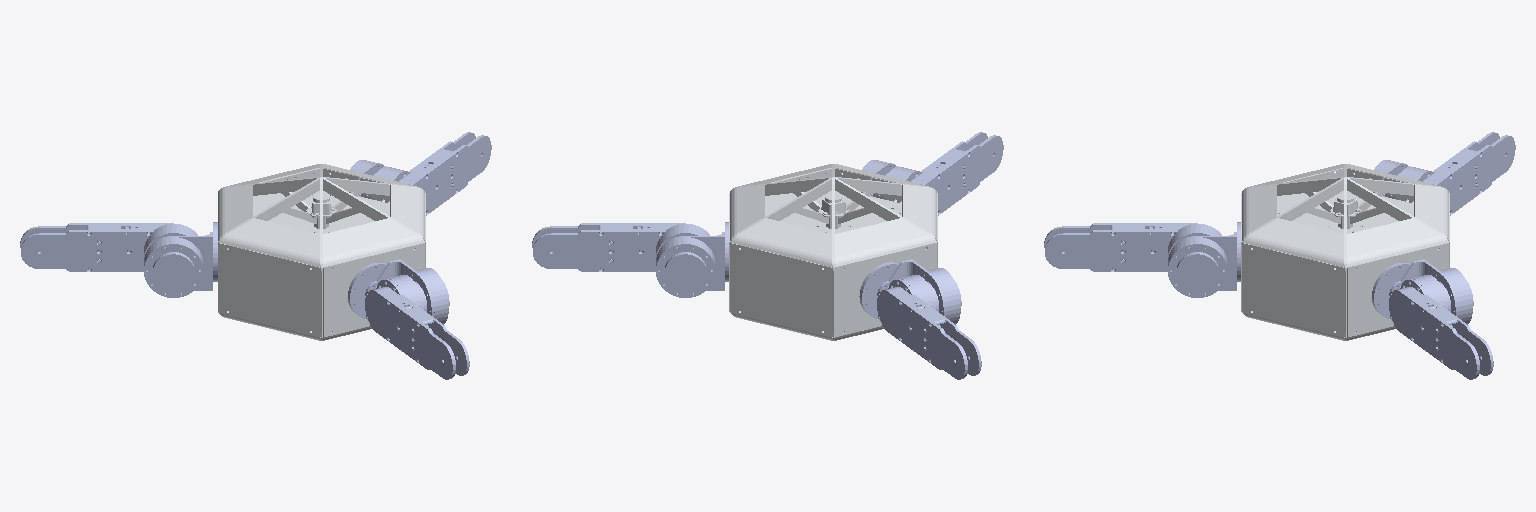
The robot description file, URDF, robot "tripod9":
<?xml version="1.0" encoding="utf-8"?>
<!-- This URDF was automatically created by SolidWorks to URDF Exporter! Originally created by [author] ([email redacted]) 
     Commit Version: 1.6.0-4-g7f85cfe  Build Version: 1.6.7995.38578
     For more information, please see http://wiki.ros.org/sw_urdf_exporter -->
<robot
  name="tripod9">
  <link
    name="base_link">
    <inertial>
      <origin
        xyz="-0.00312905634710786 0.0203968059548864 0.0257846213394461"
        rpy="0 0 0" />
      <mass
        value="11.3724307419957" />
      <inertia
        ixx="0.0406073269056664"
        ixy="0.010264439474814"
        ixz="-4.0857509947383E-07"
        iyy="0.0528919898826588"
        iyz="-5.215426614709E-08"
        izz="0.0710445423135388" />
    </inertial>
    <visual>
      <origin
        xyz="0 0 0"
        rpy="0 0 0" />
      <geometry>
        <mesh
          filename="package://tripod9/meshes/base_link.STL" />
      </geometry>
      <material
        name="">
        <color
          rgba="0.898039215686275 0.917647058823529 0.929411764705882 1" />
      </material>
    </visual>
    <collision>
      <origin
        xyz="0 0 0"
        rpy="0 0 0" />
      <geometry>
        <mesh
          filename="package://tripod9/meshes/base_link.STL" />
      </geometry>
    </collision>
  </link>
  <link
    name="sec01">
    <inertial>
      <origin
        xyz="0.00048653 0.015913 -3.1489E-05"
        rpy="0 0 0" />
      <mass
        value="0.69712" />
      <inertia
        ixx="0.0011428"
        ixy="-9.0045E-05"
        ixz="-4.1383E-07"
        iyy="0.0011939"
        iyz="-4.9367E-19"
        izz="0.00095487" />
    </inertial>
    <visual>
      <origin
        xyz="0 0 0"
        rpy="0 0 0" />
      <geometry>
        <mesh
          filename="package://tripod9/meshes/sec01.STL" />
      </geometry>
      <material
        name="">
        <color
          rgba="0.79216 0.81961 0.93333 1" />
      </material>
    </visual>
    <collision>
      <origin
        xyz="0 0 0"
        rpy="0 0 0" />
      <geometry>
        <mesh
          filename="package://tripod9/meshes/sec01.STL" />
      </geometry>
    </collision>
  </link>
  <joint
    name="leg01"
    type="revolute">
    <origin
      xyz="-0.00270211669405697 -0.198920451815278 0.0296429977991011"
      rpy="0 0 -1.5707963267949" />
    <parent
      link="base_link" />
    <child
      link="sec01" />
    <axis
      xyz="1 0 0" />
    <limit
      lower="-1.571"
      upper="1.571"
      effort="10000"
      velocity="10000" />
  </joint>
  <link
    name="hsec01">
    <inertial>
      <origin
        xyz="-0.085802207284442 -0.0586652892981549 -0.00128195126910836"
        rpy="0 0 0" />
      <mass
        value="2.59385289729097" />
      <inertia
        ixx="0.0132813286063691"
        ixy="2.30713341803904E-07"
        ixz="7.37838868928084E-06"
        iyy="0.00186263080107763"
        iyz="1.88984474958543E-06"
        izz="0.0117381218254458" />
    </inertial>
    <visual>
      <origin
        xyz="0 0 0"
        rpy="0 0 0" />
      <geometry>
        <mesh
          filename="package://tripod9/meshes/hsec01.STL" />
      </geometry>
      <material
        name="">
        <color
          rgba="0.792156862745098 0.819607843137255 0.933333333333333 1" />
      </material>
    </visual>
    <collision>
      <origin
        xyz="0 0 0"
        rpy="0 0 0" />
      <geometry>
        <mesh
          filename="package://tripod9/meshes/hsec01.STL" />
      </geometry>
    </collision>
  </link>
  <joint
    name="high01"
    type="revolute">
    <origin
      xyz="0.0788064380992387 0.0895000000000011 0"
      rpy="0 0 1.5707963267949" />
    <parent
      link="sec01" />
    <child
      link="hsec01" />
    <axis
      xyz="-1 0 0" />
    <limit
      lower="-1.571"
      upper="1.571"
      effort="10000"
      velocity="10000" />
  </joint>
  <link
    name="lsec01">
    <inertial>
      <origin
        xyz="-0.00741155948002789 -0.0534070820824174 -2.19114356162647E-07"
        rpy="0 0 0" />
      <mass
        value="0.292019066527945" />
      <inertia
        ixx="0.000681104991544854"
        ixy="3.03504858996814E-10"
        ixz="-6.21574686540396E-10"
        iyy="8.62621908768414E-05"
        iyz="-1.16761217815233E-09"
        izz="0.0006157104656343" />
    </inertial>
    <visual>
      <origin
        xyz="0 0 0"
        rpy="0 0 0" />
      <geometry>
        <mesh
          filename="package://tripod9/meshes/lsec01.STL" />
      </geometry>
      <material
        name="">
        <color
          rgba="0.792156862745098 0.819607843137255 0.933333333333333 1" />
      </material>
    </visual>
    <collision>
      <origin
        xyz="0 0 0"
        rpy="0 0 0" />
      <geometry>
        <mesh
          filename="package://tripod9/meshes/lsec01.STL" />
      </geometry>
    </collision>
  </link>
  <joint
    name="low01"
    type="revolute">
    <origin
      xyz="-0.10655 -0.269643561900764 -0.0021000000000095"
      rpy="0 0 0" />
    <parent
      link="hsec01" />
    <child
      link="lsec01" />
    <axis
      xyz="-1 0 0" />
    <limit
      lower="-1.571"
      upper="1.571"
      effort="10000"
      velocity="10000" />
  </joint>
  <link
    name="sec02">
    <inertial>
      <origin
        xyz="0.00048653 0.015913 -3.1489E-05"
        rpy="0 0 0" />
      <mass
        value="0.69712" />
      <inertia
        ixx="0.0011428"
        ixy="-9.0045E-05"
        ixz="-4.1383E-07"
        iyy="0.0011939"
        iyz="-6.2858E-19"
        izz="0.00095487" />
    </inertial>
    <visual>
      <origin
        xyz="0 0 0"
        rpy="0 0 0" />
      <geometry>
        <mesh
          filename="package://tripod9/meshes/sec02.STL" />
      </geometry>
      <material
        name="">
        <color
          rgba="0.79216 0.81961 0.93333 1" />
      </material>
    </visual>
    <collision>
      <origin
        xyz="0 0 0"
        rpy="0 0 0" />
      <geometry>
        <mesh
          filename="package://tripod9/meshes/sec02.STL" />
      </geometry>
    </collision>
  </link>
  <joint
    name="leg02"
    type="revolute">
    <origin
      xyz="0.185774106959521 0.127529943539013 0.0296429977991011"
      rpy="0 0 0.523598775598251" />
    <parent
      link="base_link" />
    <child
      link="sec02" />
    <axis
      xyz="1 0 0" />
    <limit
      lower="-1.571"
      upper="1.571"
      effort="10000"
      velocity="10000" />
  </joint>
  <link
    name="hsec02">
    <inertial>
      <origin
        xyz="-0.0936880803892596 0.0449324326469038 -0.00132320363478538"
        rpy="0 0 0" />
      <mass
        value="2.58967801426391" />
      <inertia
        ixx="0.00471738722941004"
        ixy="-0.00494456996283436"
        ixz="5.32584938980878E-06"
        iyy="0.0104263520174632"
        iyz="-5.44494872557977E-06"
        izz="0.0117379962530972" />
    </inertial>
    <visual>
      <origin
        xyz="0 0 0"
        rpy="0 0 0" />
      <geometry>
        <mesh
          filename="package://tripod9/meshes/hsec02.STL" />
      </geometry>
      <material
        name="">
        <color
          rgba="0.792156862745098 0.819607843137255 0.933333333333333 1" />
      </material>
    </visual>
    <collision>
      <origin
        xyz="0 0 0"
        rpy="0 0 0" />
      <geometry>
        <mesh
          filename="package://tripod9/meshes/hsec02.STL" />
      </geometry>
    </collision>
  </link>
  <joint
    name="high02"
    type="revolute">
    <origin
      xyz="0.0788064380992388 0.0895000000000011 0"
      rpy="0 0 2.61799387799154" />
    <parent
      link="sec02" />
    <child
      link="hsec02" />
    <axis
      xyz="-0.499999999999959 0.866025403784462 0" />
    <limit
      lower="-1.571"
      upper="1.571"
      effort="10000"
      velocity="10000" />
  </joint>
  <link
    name="lsec02">
    <inertial>
      <origin
        xyz="-0.049957669765295 -0.0202849427339908 -2.19055842902438E-07"
        rpy="0 0 0" />
      <mass
        value="0.292019079957839" />
      <inertia
        ixx="0.00023497254123623"
        ixy="-0.000257573690181134"
        ixz="-1.32698808700612E-09"
        iyy="0.000532392318918855"
        iyz="-3.69713850193408E-11"
        izz="0.000615708168370942" />
    </inertial>
    <visual>
      <origin
        xyz="0 0 0"
        rpy="0 0 0" />
      <geometry>
        <mesh
          filename="package://tripod9/meshes/lsec02.STL" />
      </geometry>
      <material
        name="">
        <color
          rgba="0.792156862745098 0.819607843137255 0.933333333333333 1" />
      </material>
    </visual>
    <collision>
      <origin
        xyz="0 0 0"
        rpy="0 0 0" />
      <geometry>
        <mesh
          filename="package://tripod9/meshes/lsec02.STL" />
      </geometry>
    </collision>
  </link>
  <joint
    name="low02"
    type="revolute">
    <origin
      xyz="-0.286793174572986 -0.0425467741771368 -0.00210000000000763"
      rpy="0 0 0" />
    <parent
      link="hsec02" />
    <child
      link="lsec02" />
    <axis
      xyz="-0.49999999999996 0.866025403784462 0" />
    <limit
      lower="-1.571"
      upper="1.571"
      effort="10000"
      velocity="10000" />
  </joint>
  <link
    name="sec03">
    <inertial>
      <origin
        xyz="0.00048653 0.015913 -3.1489E-05"
        rpy="0 0 0" />
      <mass
        value="0.69712" />
      <inertia
        ixx="0.0011428"
        ixy="-9.0045E-05"
        ixz="-4.1383E-07"
        iyy="0.0011939"
        iyz="-1.7005E-17"
        izz="0.00095487" />
    </inertial>
    <visual>
      <origin
        xyz="0 0 0"
        rpy="0 0 0" />
      <geometry>
        <mesh
          filename="package://tripod9/meshes/sec03.STL" />
      </geometry>
      <material
        name="">
        <color
          rgba="0.79216 0.81961 0.93333 1" />
      </material>
    </visual>
    <collision>
      <origin
        xyz="0 0 0"
        rpy="0 0 0" />
      <geometry>
        <mesh
          filename="package://tripod9/meshes/sec03.STL" />
      </geometry>
    </collision>
  </link>
  <joint
    name="leg03"
    type="revolute">
    <origin
      xyz="-0.19118 0.12753 0.029643"
      rpy="0 0 2.618" />
    <parent
      link="base_link" />
    <child
      link="sec03" />
    <axis
      xyz="1 0 0" />
    <limit
      lower="-1.571"
      upper="1.571"
      effort="10000"
      velocity="10000" />
  </joint>
  <link
    name="hsec03">
    <inertial>
      <origin
        xyz="-0.0079045 0.10364 -0.001282"
        rpy="0 0 0" />
      <mass
        value="2.5939" />
      <inertia
        ixx="0.0047171"
        ixy="0.0049443"
        ixz="-2.0525E-06"
        iyy="0.010427"
        iyz="-7.3348E-06"
        izz="0.011738" />
    </inertial>
    <visual>
      <origin
        xyz="0 0 0"
        rpy="0 0 0" />
      <geometry>
        <mesh
          filename="package://tripod9/meshes/hsec03.STL" />
      </geometry>
      <material
        name="">
        <color
          rgba="0.79216 0.81961 0.93333 1" />
      </material>
    </visual>
    <collision>
      <origin
        xyz="0 0 0"
        rpy="0 0 0" />
      <geometry>
        <mesh
          filename="package://tripod9/meshes/hsec03.STL" />
      </geometry>
    </collision>
  </link>
  <joint
    name="high03"
    type="revolute">
    <origin
      xyz="0.078806 0.0895 0"
      rpy="0 0 -2.618" />
    <parent
      link="sec03" />
    <child
      link="hsec03" />
    <axis
      xyz="0.5 0.86603 0" />
    <limit
      lower="-1.571"
      upper="1.571"
      effort="10000"
      velocity="10000" />
  </joint>
  <link
    name="lsec03">
    <inertial>
      <origin
        xyz="-0.042546 0.033122 -2.1905E-07"
        rpy="0 0 0" />
      <mass
        value="0.29202" />
      <inertia
        ixx="0.00023497"
        ixy="0.00025757"
        ixz="-6.9589E-10"
        iyy="0.00053239"
        iyz="1.1309E-09"
        izz="0.00061571" />
    </inertial>
    <visual>
      <origin
        xyz="0 0 0"
        rpy="0 0 0" />
      <geometry>
        <mesh
          filename="package://tripod9/meshes/lsec03.STL" />
      </geometry>
      <material
        name="">
        <color
          rgba="0.89804 0.91765 0.92941 1" />
      </material>
    </visual>
    <collision>
      <origin
        xyz="0 0 0"
        rpy="0 0 0" />
      <geometry>
        <mesh
          filename="package://tripod9/meshes/lsec03.STL" />
      </geometry>
    </collision>
  </link>
  <joint
    name="low03"
    type="revolute">
    <origin
      xyz="-0.18024 0.2271 -0.0021"
      rpy="0 0 0" />
    <parent
      link="hsec03" />
    <child
      link="lsec03" />
    <axis
      xyz="0.5 0.86603 0" />
    <limit
      lower="-1.571"
      upper="1.571"
      effort="10000"
      velocity="10000" />
  </joint>

<!--transmission definition -->
<transmission name="tran01">
    <type>transmission_interface/SimpleTransmission</type>
    <joint name="leg01">
      <hardwareInterface>hardware_interface/EffortJointInterface</hardwareInterface>
    </joint>
    <actuator name="motor01">
      <hardwareInterface>hardware_interface/EffortJointInterface</hardwareInterface>
      <mechanicalReduction>1</mechanicalReduction>
    </actuator>
  </transmission>
  
  <transmission name="tran02">
    <type>transmission_interface/SimpleTransmission</type>
    <joint name="high01">
      <hardwareInterface>hardware_interface/EffortJointInterface</hardwareInterface>
    </joint>
    <actuator name="motor02">
      <hardwareInterface>hardware_interface/EffortJointInterface</hardwareInterface>
      <mechanicalReduction>1</mechanicalReduction>
    </actuator>
  </transmission>
  
  <transmission name="tran03">
    <type>transmission_interface/SimpleTransmission</type>
    <joint name="low01">
      <hardwareInterface>hardware_interface/EffortJointInterface</hardwareInterface>
    </joint>
    <actuator name="motor03">
      <hardwareInterface>hardware_interface/EffortJointInterface</hardwareInterface>
      <mechanicalReduction>1</mechanicalReduction>
    </actuator>
  </transmission>
  
  <transmission name="tran04">
    <type>transmission_interface/SimpleTransmission</type>
    <joint name="leg02">
      <hardwareInterface>hardware_interface/EffortJointInterface</hardwareInterface>
    </joint>
    <actuator name="motor04">
      <hardwareInterface>hardware_interface/EffortJointInterface</hardwareInterface>
      <mechanicalReduction>1</mechanicalReduction>
    </actuator>
  </transmission>
  
  <transmission name="tran05">
    <type>transmission_interface/SimpleTransmission</type>
    <joint name="high02">
      <hardwareInterface>hardware_interface/EffortJointInterface</hardwareInterface>
    </joint>
    <actuator name="motor05">
      <hardwareInterface>hardware_interface/EffortJointInterface</hardwareInterface>
      <mechanicalReduction>1</mechanicalReduction>
    </actuator>
  </transmission>
  
  <transmission name="tran06">
    <type>transmission_interface/SimpleTransmission</type>
    <joint name="low02">
      <hardwareInterface>hardware_interface/EffortJointInterface</hardwareInterface>
    </joint>
    <actuator name="motor06">
      <hardwareInterface>hardware_interface/EffortJointInterface</hardwareInterface>
      <mechanicalReduction>1</mechanicalReduction>
    </actuator>
  </transmission>
  
  <transmission name="tran07">
    <type>transmission_interface/SimpleTransmission</type>
    <joint name="leg03">
      <hardwareInterface>hardware_interface/EffortJointInterface</hardwareInterface>
    </joint>
    <actuator name="motor07">
      <hardwareInterface>hardware_interface/EffortJointInterface</hardwareInterface>
      <mechanicalReduction>1</mechanicalReduction>
    </actuator>
  </transmission>
  
  <transmission name="tran08">
    <type>transmission_interface/SimpleTransmission</type>
    <joint name="high03">
      <hardwareInterface>hardware_interface/EffortJointInterface</hardwareInterface>
    </joint>
    <actuator name="motor08">
      <hardwareInterface>hardware_interface/EffortJointInterface</hardwareInterface>
      <mechanicalReduction>1</mechanicalReduction>
    </actuator>
  </transmission>
  
  <transmission name="tran09">
    <type>transmission_interface/SimpleTransmission</type>
    <joint name="low03">
      <hardwareInterface>hardware_interface/EffortJointInterface</hardwareInterface>
    </joint>
    <actuator name="motor09">
      <hardwareInterface>hardware_interface/EffortJointInterface</hardwareInterface>
      <mechanicalReduction>1</mechanicalReduction>
    </actuator>
  </transmission>
  
      <!--cointrol pluging -->
  <gazebo>
  <plugin name="gazebo_ros_control" filename="libgazebo_ros_control.so">

  </plugin>
</gazebo>

<!--
<gazebo reference="sec01">
   <turnGravityOff>true</turnGravityOff>
</gazebo>

<gazebo reference="sec02">
   <turnGravityOff>true</turnGravityOff>
</gazebo>

<gazebo reference="sec03">
   <turnGravityOff>true</turnGravityOff>
</gazebo>

<gazebo reference="sec04">
   <turnGravityOff>true</turnGravityOff>
</gazebo>

<gazebo reference="sec05">
   <turnGravityOff>true</turnGravityOff>
</gazebo>

<gazebo reference="sec06">
   <turnGravityOff>true</turnGravityOff>
</gazebo>

<gazebo reference="sec07">
   <turnGravityOff>true</turnGravityOff>
</gazebo>

<gazebo reference="sec08">
   <turnGravityOff>true</turnGravityOff>
</gazebo>

<gazebo reference="sec09">
   <turnGravityOff>true</turnGravityOff>
</gazebo>

<gazebo reference="sec10">
   <turnGravityOff>true</turnGravityOff>
</gazebo>

<gazebo reference="sec11">
   <turnGravityOff>true</turnGravityOff>
</gazebo>

-->
</robot>

--- Render facts (derived) ---
3 views of the same robot in one strip: view 1: azimuth 30°, elevation 25°; view 2: azimuth 150°, elevation 25°; view 3: azimuth 270°, elevation 25° (orthographic).
Model tripod9 with 10 links and 9 joints (9 revolute), rooted at base_link, posed all joints at 0.
Visible links, largest first — view 1: base_link, hsec03, hsec01, hsec02, sec01, sec03; view 2: base_link, hsec02, hsec03, hsec01, sec03, sec02; view 3: base_link, hsec01, hsec02, hsec03, sec02, sec01.
Boxes of the visible links, x1=… form: base_link: x1=218, y1=164, x2=425, y2=340; hsec03: x1=20, y1=223, x2=203, y2=297; hsec01: x1=365, y1=268, x2=469, y2=379; hsec02: x1=350, y1=132, x2=491, y2=215; sec01: x1=348, y1=259, x2=434, y2=319; sec03: x1=144, y1=222, x2=217, y2=290; base_link: x1=729, y1=164, x2=937, y2=340; hsec02: x1=532, y1=223, x2=715, y2=297; hsec03: x1=877, y1=268, x2=981, y2=379; hsec01: x1=862, y1=132, x2=1003, y2=215; sec03: x1=859, y1=259, x2=946, y2=319; sec02: x1=656, y1=222, x2=728, y2=290; base_link: x1=1241, y1=164, x2=1449, y2=340; hsec01: x1=1044, y1=223, x2=1227, y2=297; hsec02: x1=1389, y1=268, x2=1493, y2=379; hsec03: x1=1374, y1=132, x2=1515, y2=215; sec02: x1=1372, y1=259, x2=1458, y2=319; sec01: x1=1168, y1=222, x2=1240, y2=290.
Bounding box of the posed robot: 1.07 × 0.9455 × 0.333 m (x, y, z).
7 mesh visuals loaded from 10 distinct referenced files (7 binary STL); not drawn: 3 (reference not matched to a file when rendering).
